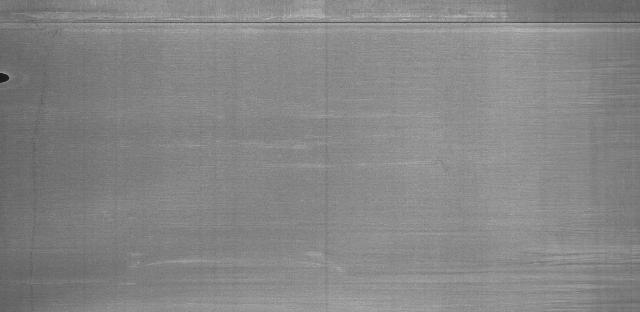punching_hole: (0, 62, 8, 89)
welding_line: (1, 16, 640, 38)
